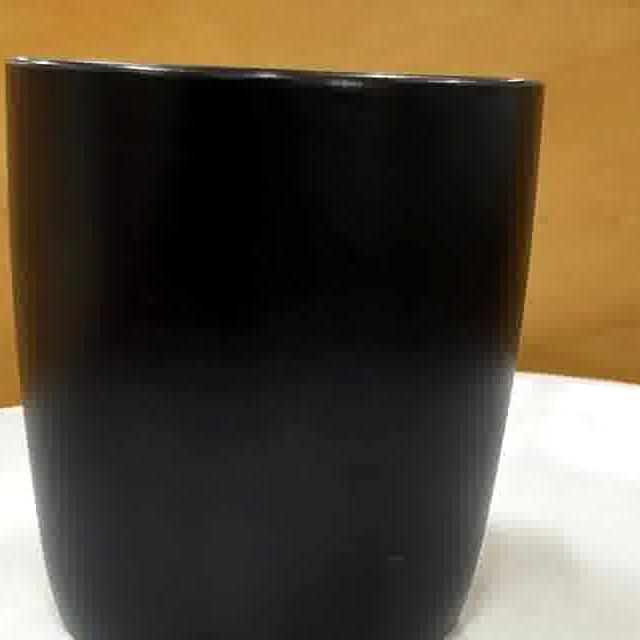cup: (12, 66, 540, 640)
